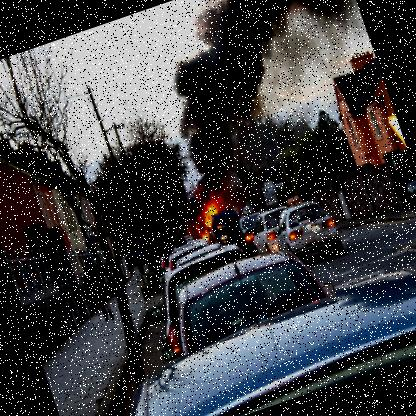Car: (88, 253, 415, 415), (134, 208, 339, 362), (142, 240, 276, 360), (274, 198, 350, 274), (248, 203, 308, 262), (231, 204, 281, 260), (171, 236, 227, 270), (164, 237, 216, 272)
